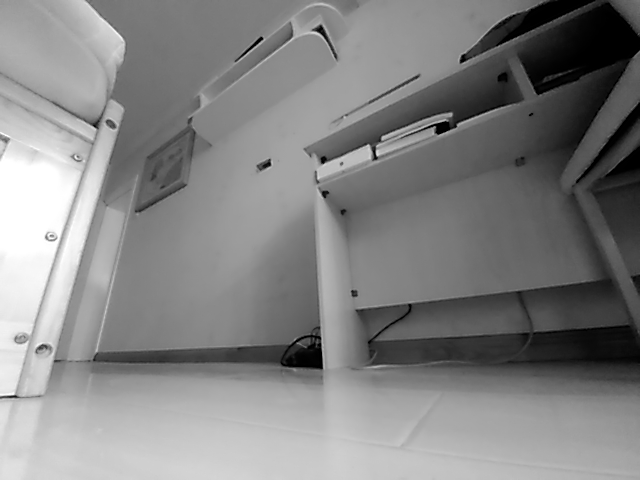wire: (362, 291, 534, 370), (281, 326, 322, 372)
